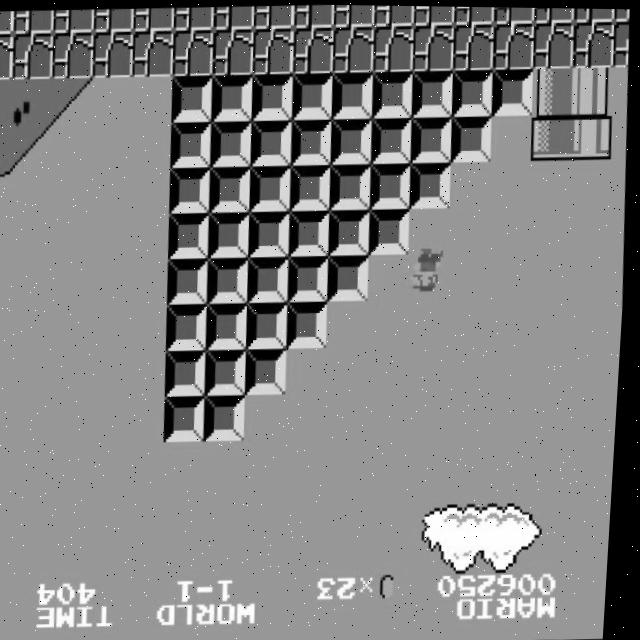11- little_mario: (408, 245, 455, 296)
14- pipe: (571, 65, 616, 112), (531, 66, 576, 113)
15- pipe_head: (570, 110, 615, 158), (530, 111, 575, 159)
17- undestructible_block: (90, 30, 136, 78), (50, 31, 96, 79), (10, 32, 56, 80), (371, 23, 416, 71), (331, 24, 376, 72), (291, 25, 336, 73), (251, 26, 296, 74), (211, 27, 256, 75), (171, 28, 216, 76), (131, 29, 176, 77), (571, 19, 616, 66), (531, 20, 576, 67), (491, 21, 536, 68), (451, 22, 496, 69), (411, 23, 456, 70), (292, 3, 335, 27), (252, 4, 295, 28), (212, 5, 255, 29), (172, 6, 215, 30), (132, 7, 175, 31), (92, 8, 135, 32), (52, 9, 95, 33), (12, 10, 55, 34), (332, 4, 375, 26), (372, 4, 415, 25), (611, 19, 630, 65), (452, 5, 495, 24), (412, 5, 455, 24), (0, 33, 15, 80), (532, 6, 575, 22), (492, 6, 535, 22), (572, 7, 615, 20), (0, 11, 15, 34), (612, 7, 629, 20)
9- hard_block: (490, 67, 536, 114), (450, 68, 496, 115), (410, 69, 456, 116), (247, 301, 293, 348), (249, 118, 295, 165), (207, 302, 253, 349), (209, 119, 255, 166), (167, 303, 213, 350), (169, 120, 215, 167), (450, 113, 495, 161), (369, 206, 414, 254), (370, 69, 415, 117), (329, 207, 374, 255), (330, 70, 375, 118), (288, 300, 333, 348), (289, 208, 334, 256), (290, 71, 335, 119), (247, 346, 292, 394), (250, 72, 295, 120), (207, 347, 252, 395), (209, 210, 254, 258), (167, 348, 212, 396), (169, 211, 214, 259), (170, 74, 215, 122), (409, 160, 454, 207), (410, 114, 455, 161), (369, 161, 414, 208), (370, 115, 415, 162), (329, 162, 374, 209), (330, 116, 375, 163), (288, 255, 333, 302), (289, 163, 334, 210), (290, 117, 335, 164), (249, 210, 294, 257), (209, 165, 254, 212), (210, 74, 255, 121), (169, 166, 214, 213), (328, 254, 373, 300), (248, 256, 293, 302), (249, 165, 294, 211), (206, 394, 251, 440), (208, 257, 253, 303), (167, 395, 212, 441), (168, 258, 213, 304)
